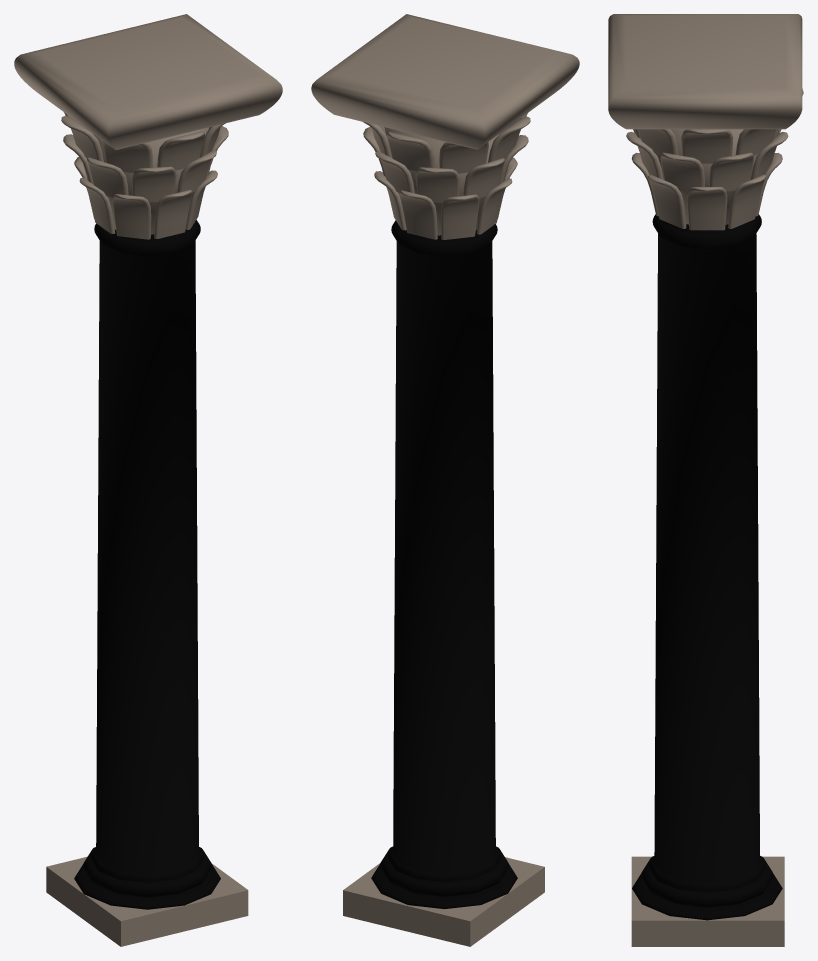
Rendered from Pillar.obj.
3 views of the same model, side by side, from view 1: azimuth 30°, elevation 25°; view 2: azimuth 150°, elevation 25°; view 3: azimuth 270°, elevation 25° (orthographic). The views are drawn at different scales.
Parts seen in each view (by area): view 1: pillar, pllr_up_bs, corinthian, foot; view 2: pillar, pllr_up_bs, corinthian, foot; view 3: pillar, pllr_up_bs, corinthian, foot.
Boxes of the visible parts, x1,y1,x2,y2 form: pillar: (74, 220, 220, 909); pllr_up_bs: (14, 14, 282, 149); corinthian: (61, 112, 228, 239); foot: (46, 856, 248, 946); pillar: (371, 220, 517, 909); pllr_up_bs: (311, 14, 579, 149); corinthian: (362, 113, 530, 239); foot: (343, 857, 544, 946); pillar: (632, 214, 782, 920); pllr_up_bs: (608, 14, 802, 129); corinthian: (626, 88, 803, 230); foot: (631, 856, 784, 946).
Bounding box in the file's own units: 1.36 × 6.26 × 1.29.
